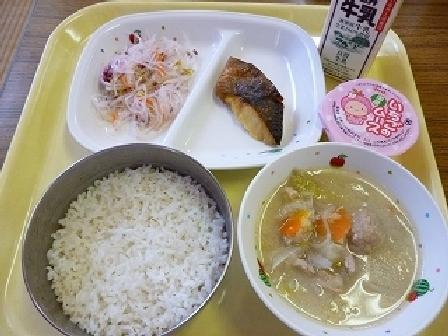Fish: (206, 49, 295, 150)
Milk: (307, 0, 406, 85)
Rice: (21, 153, 232, 327)
salad with sauce: (87, 22, 206, 132)
vegetable soup: (248, 150, 442, 332)
